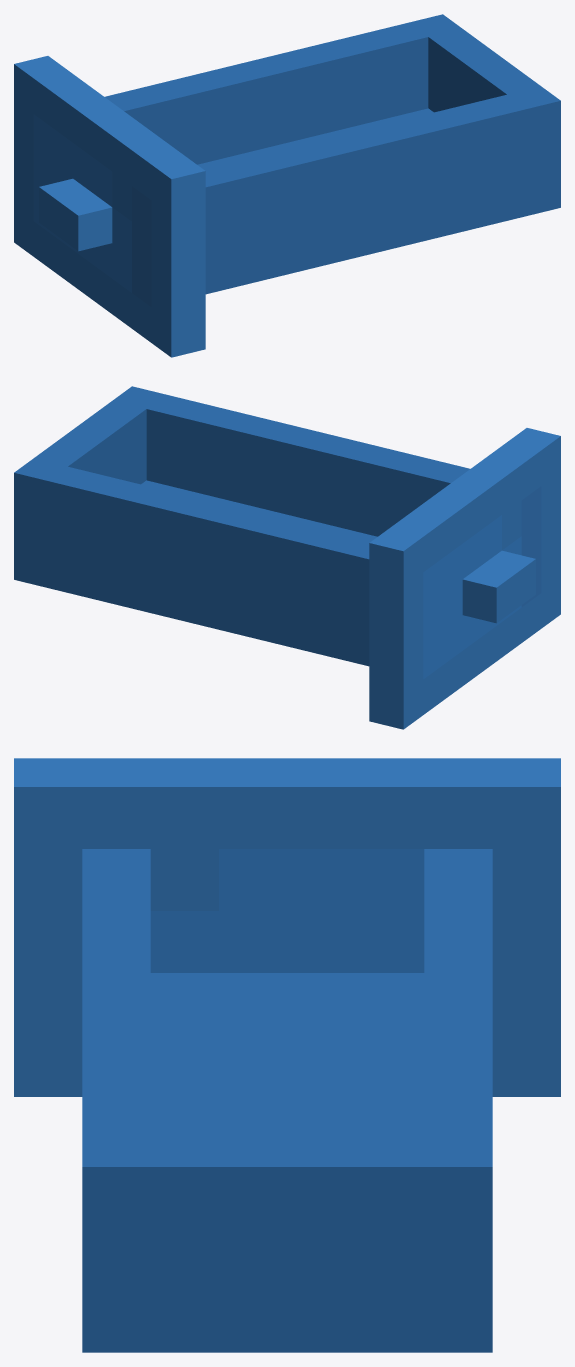
The model's file is drawer_2.obj.
3 renders of one model, top to bottom at view 1: azimuth 30°, elevation 25°; view 2: azimuth 150°, elevation 25°; view 3: azimuth 270°, elevation 25°, orthographic. The views are drawn at different scales.
Bounding box in the file's own units: 1.3 × 0.5 × 0.8.
